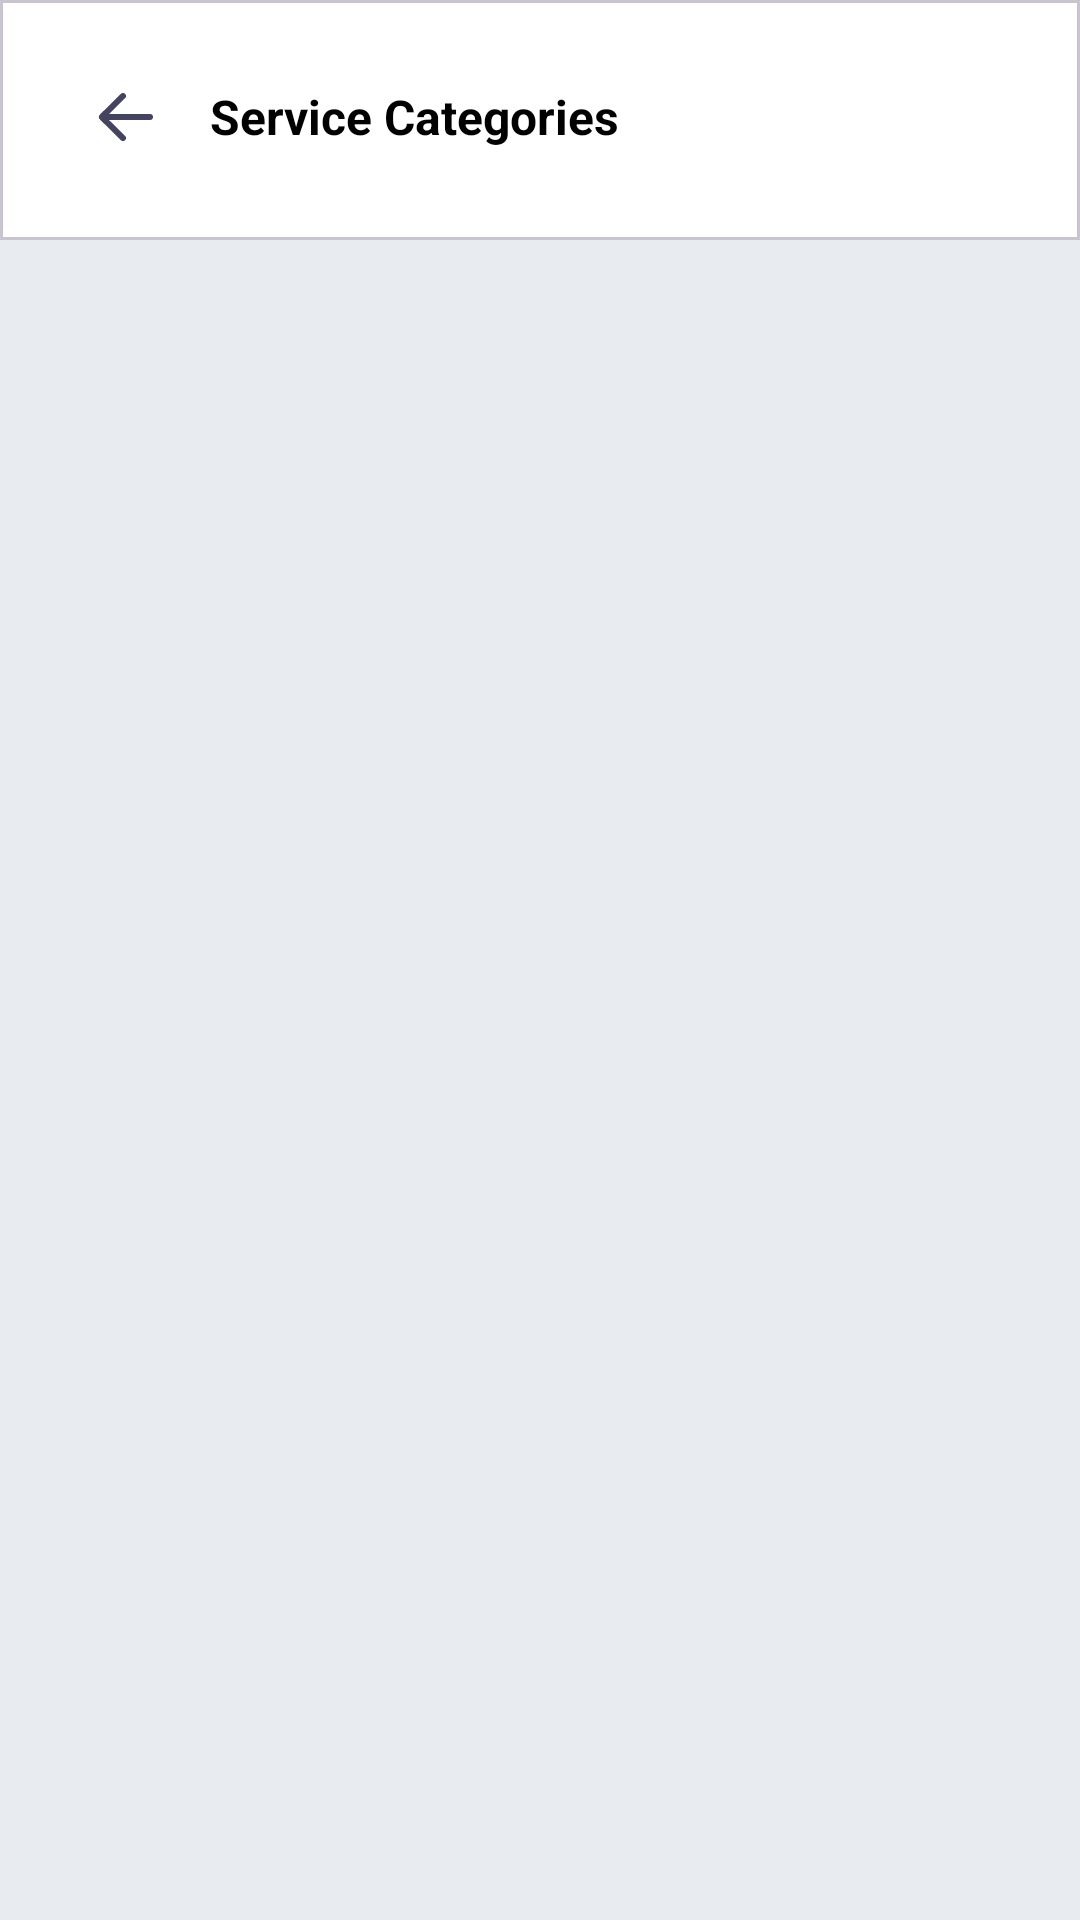

Named icons in this screenshot (1080px×1920px) and their centers, [x,y]:
fluent arrow left: [126,117]
